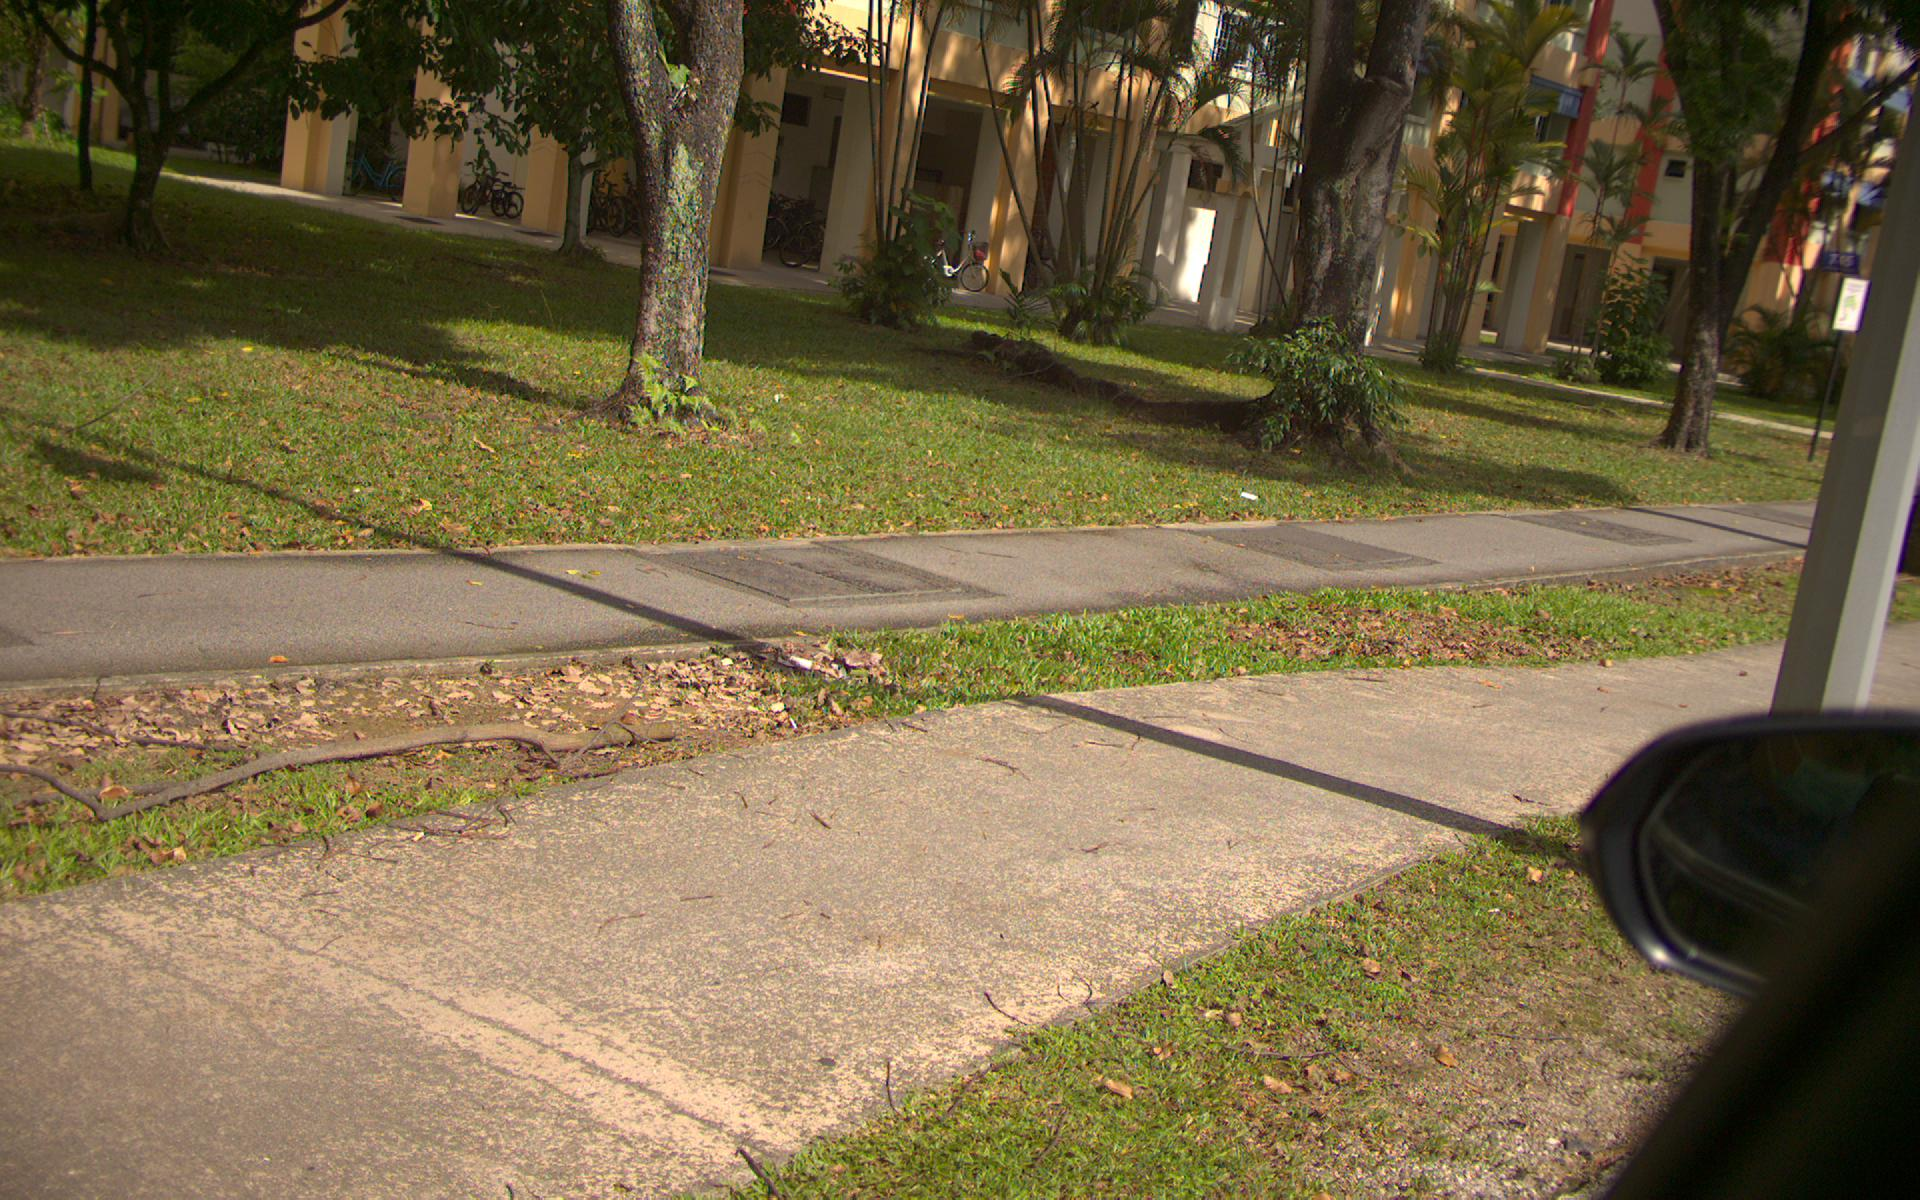pathway_low: (93, 872, 825, 1141), (1, 545, 809, 640)
road_turf_low: (21, 318, 1832, 495), (26, 673, 695, 755)
